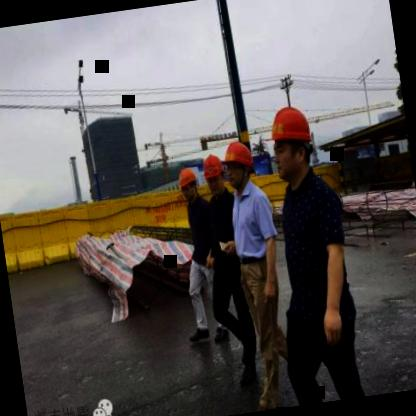helmet: (262, 100, 319, 186), (218, 137, 254, 188), (177, 162, 204, 207), (200, 150, 226, 193)
